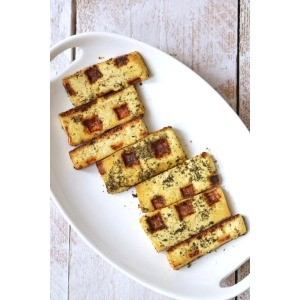tofu_brain food: (81, 122, 205, 221)
